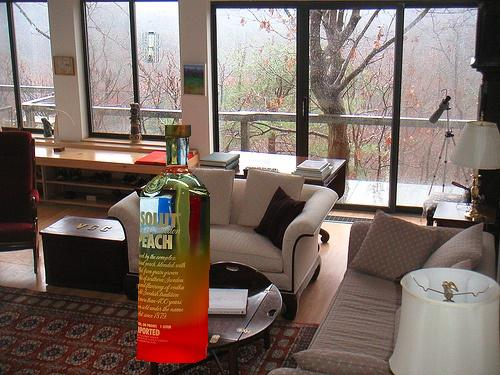tampered: (136, 126, 210, 363)
